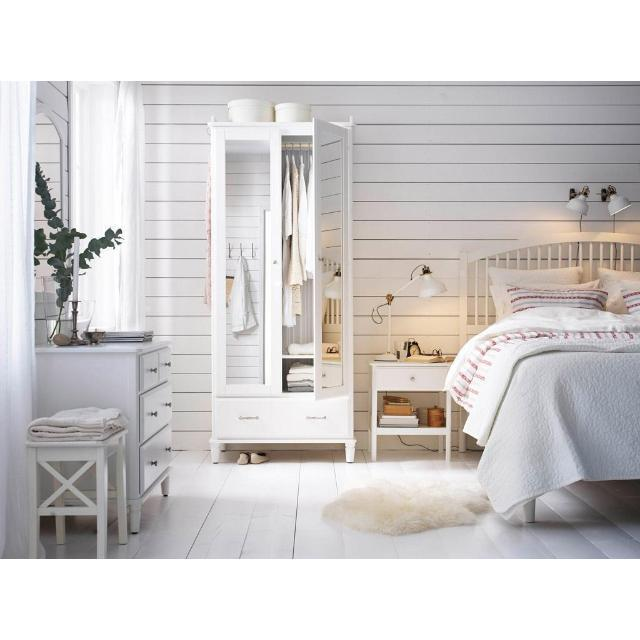bed: (445, 234, 640, 522)
curtain: (71, 81, 145, 331)
dresser: (210, 121, 356, 461), (37, 341, 174, 532)
lamp: (375, 265, 446, 361), (600, 185, 631, 216), (566, 186, 590, 216)
rug: (322, 484, 491, 535)
stool: (26, 430, 128, 558)
